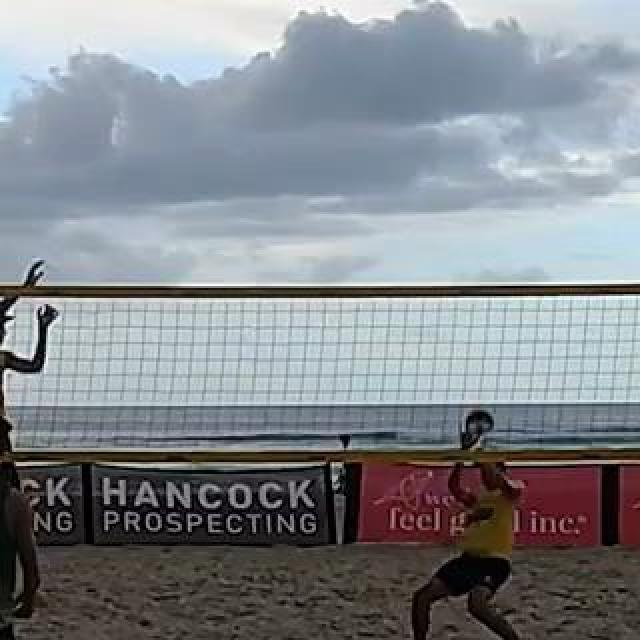volleyball: (464, 409, 494, 437)
